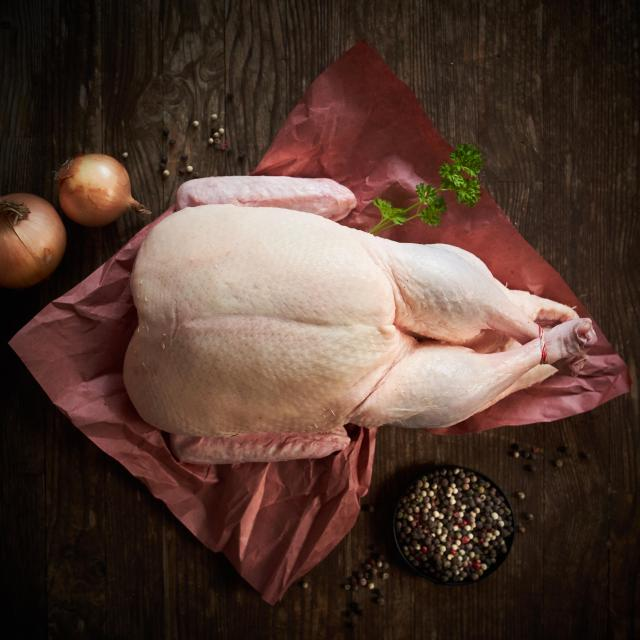duck: (124, 205, 596, 436)
